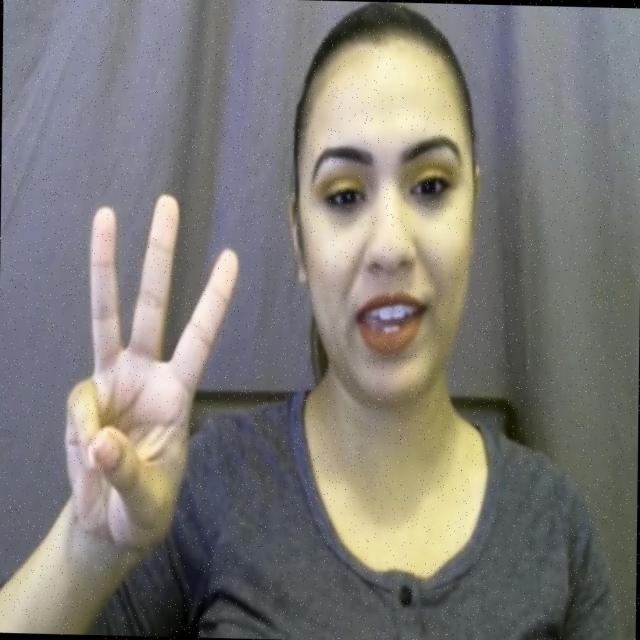W: (52, 184, 247, 543)
